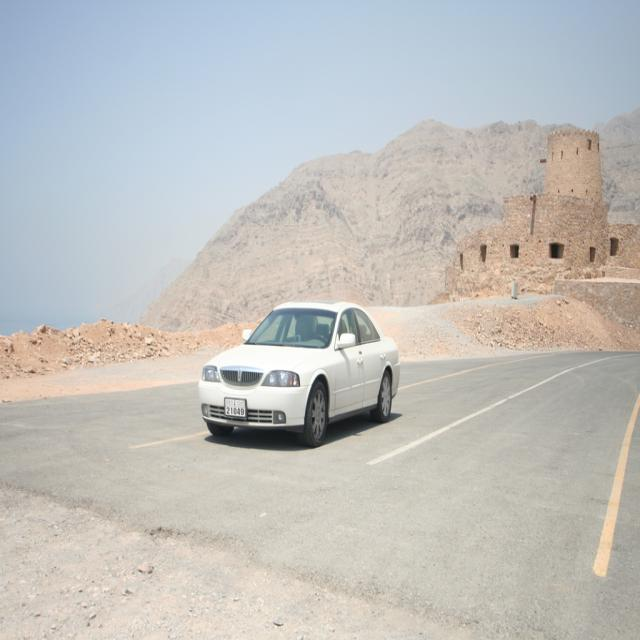car: (194, 297, 403, 443)
